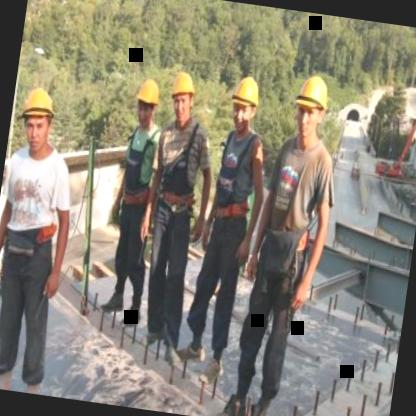helmet: (286, 67, 336, 148), (13, 78, 60, 154), (225, 70, 265, 136), (163, 68, 199, 125), (132, 74, 164, 127)
